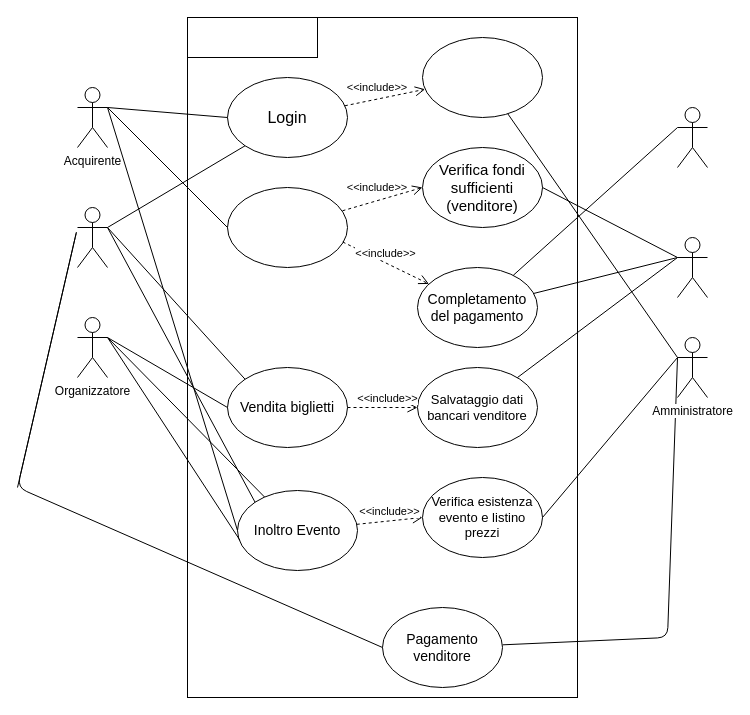
The diagram is 750 pixels wide and 715 high, and some of its shapes have lost their labels. The centre of each missing label's shape, as x and y in pixels:
"Acquista biglietto" goes at point (287, 227).
"Banca" goes at point (692, 137).
"Equiticket" goes at point (252, 37).
"Stripe" goes at point (692, 267).
"Venditore" goes at point (92, 237).
"Verifica Credenziali" goes at point (482, 77).
